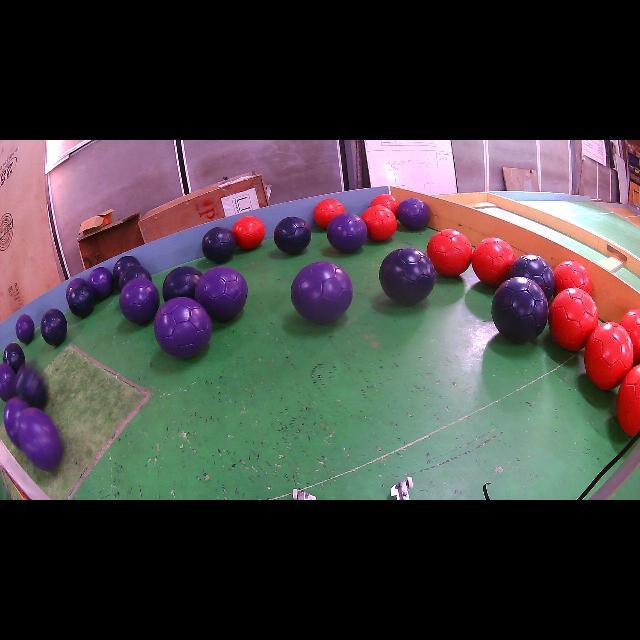B: (491, 278, 549, 342), (379, 248, 436, 305), (509, 254, 555, 300), (15, 364, 48, 409), (274, 216, 311, 254), (162, 266, 202, 301), (201, 228, 236, 263), (40, 309, 68, 345), (68, 282, 95, 318), (112, 256, 140, 288), (119, 265, 152, 291), (4, 342, 25, 373)
P: (4, 396, 62, 471), (291, 261, 352, 324), (154, 298, 211, 359), (195, 266, 248, 321), (16, 408, 62, 471), (119, 278, 160, 324), (328, 214, 368, 253), (396, 198, 430, 230), (88, 268, 114, 299), (15, 314, 35, 344), (0, 364, 15, 401), (66, 278, 86, 299)
R: (584, 322, 634, 390), (549, 288, 599, 351), (426, 229, 472, 276), (471, 238, 515, 286), (616, 365, 640, 436), (361, 205, 398, 241), (554, 260, 592, 295), (232, 216, 265, 250), (620, 309, 640, 364), (314, 199, 345, 228), (370, 194, 400, 214)
